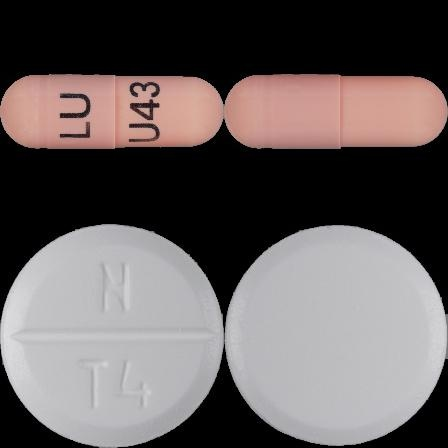27437-208: (0, 0, 224, 224)
